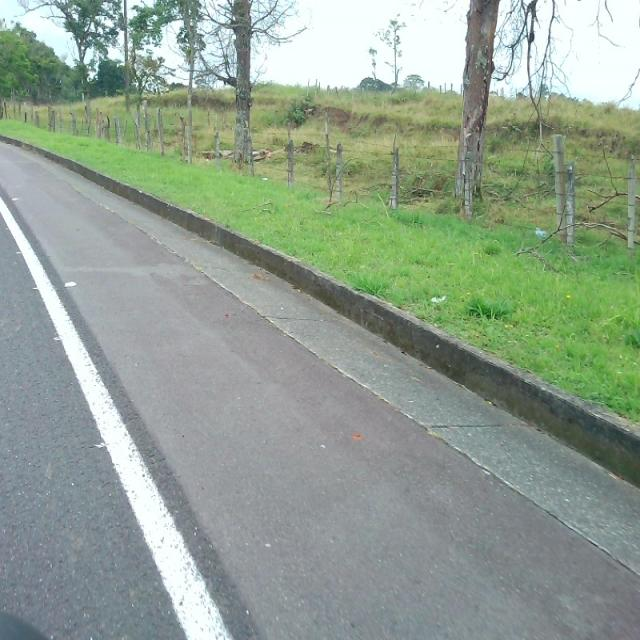DITCH: (33, 92, 639, 632), (1, 134, 639, 638), (1, 139, 638, 638)
